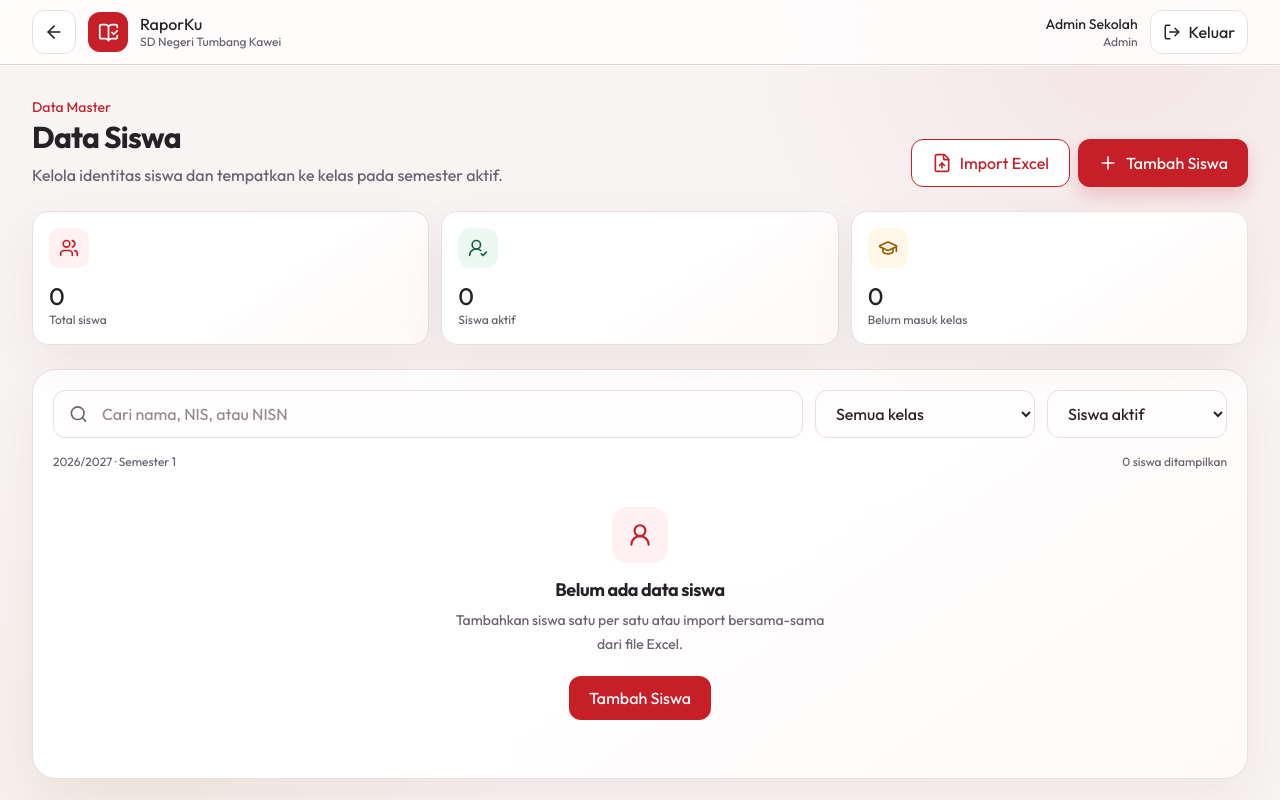
it: StudentPage › menambah siswa dan menempatkannya ke kelas aktif
The width and height of the screenshot is (1280, 800).
Click the 1st button "Tambah Siswa".
click(1163, 163)  # box [1078, 139, 1248, 187]
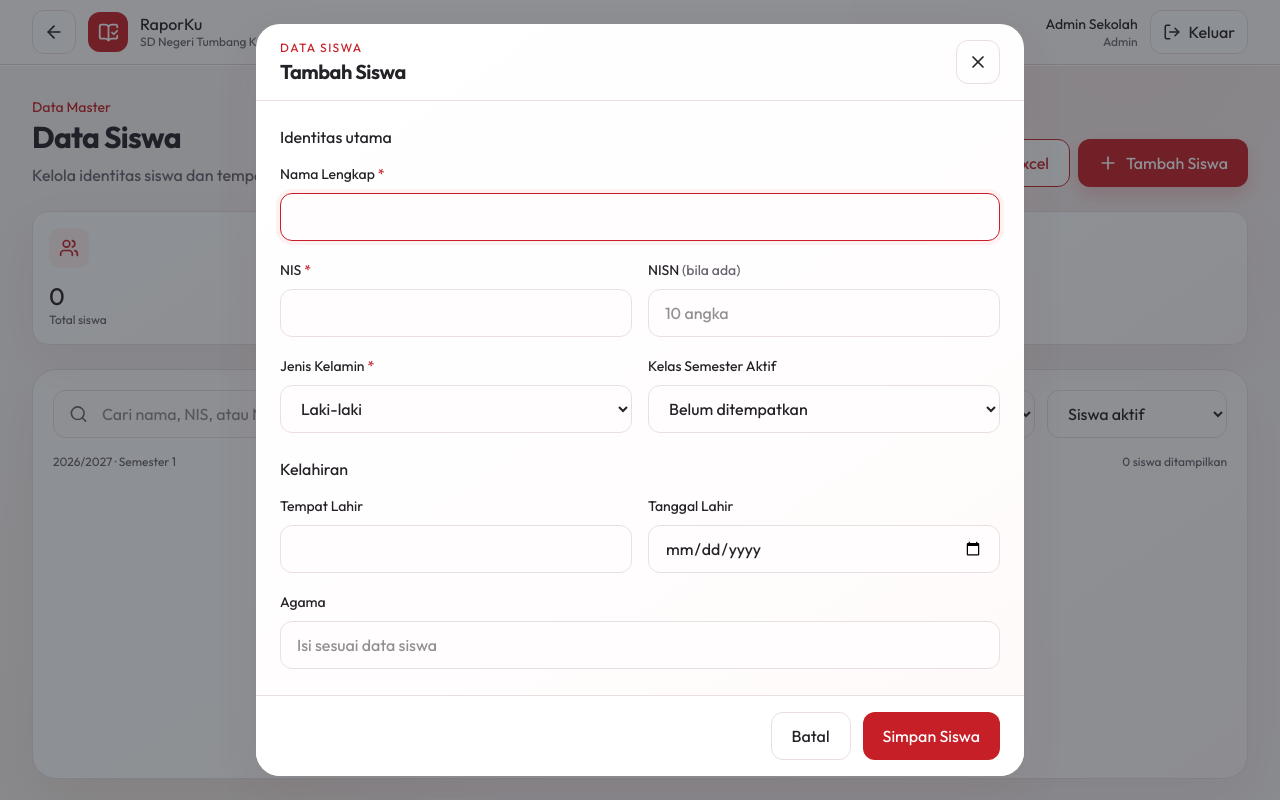
Type "Budi Santoso" into the field labelled "Nama Lengkap *".
click(640, 217); type("Budi Santoso")  # box [280, 193, 1000, 241]
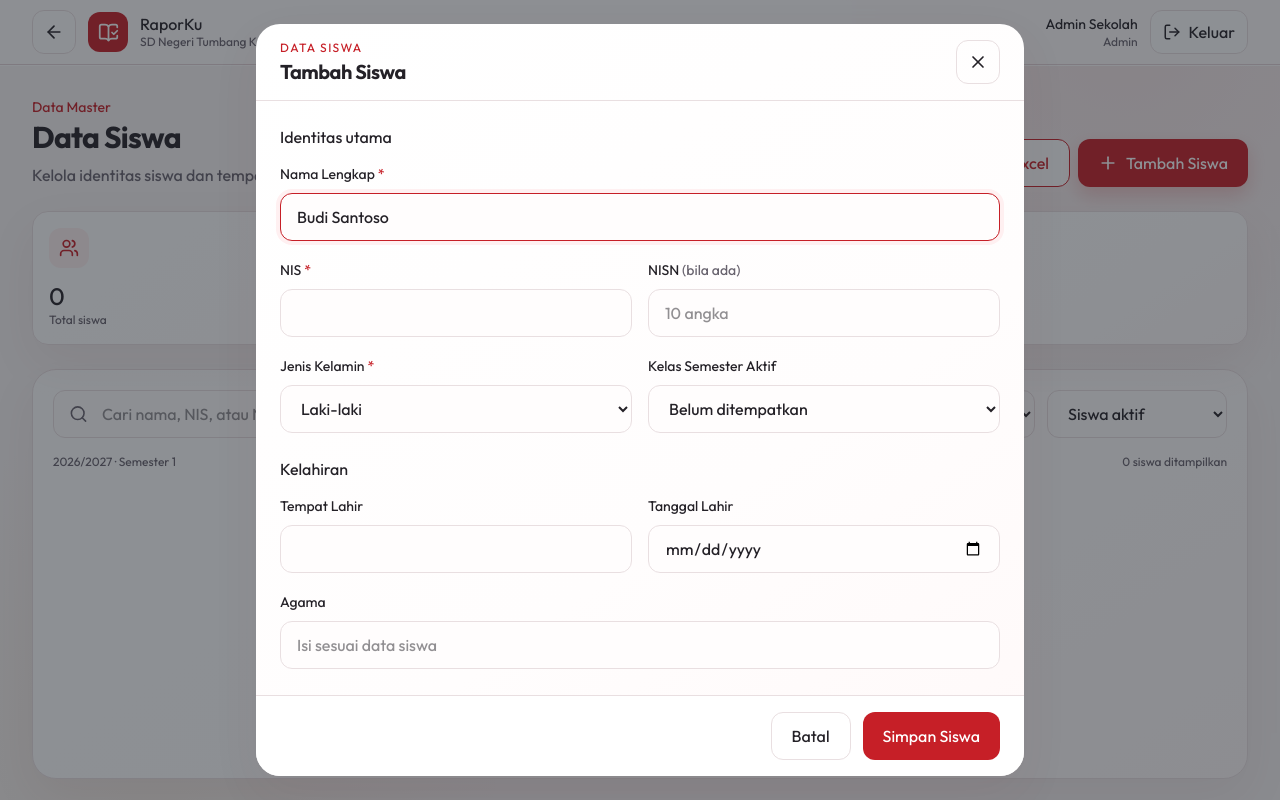
Type "001" into the field labelled "NIS *".
click(456, 313); type("001")  # box [280, 289, 632, 337]
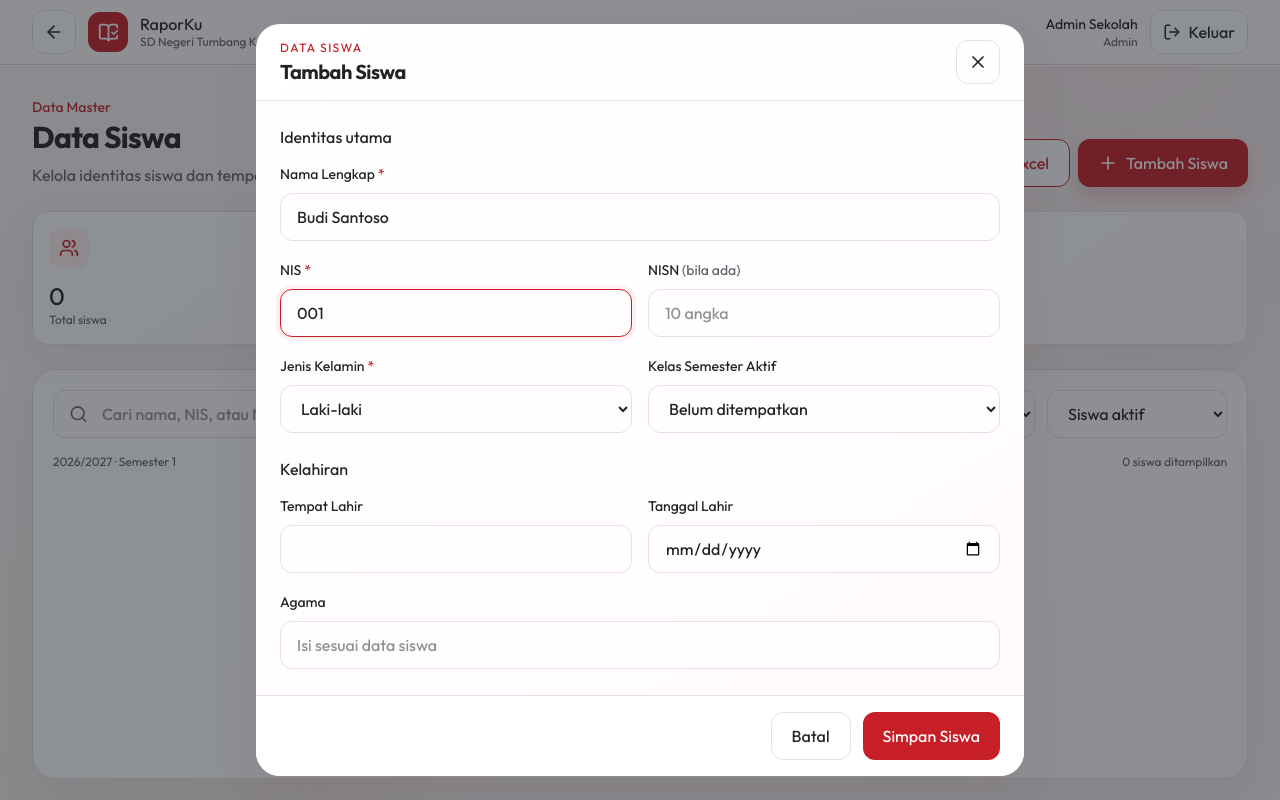
Select "4A · Kelas 4" in the dropdown labelled "Kelas Semester Aktif" at (824, 409), box [648, 385, 1000, 433]
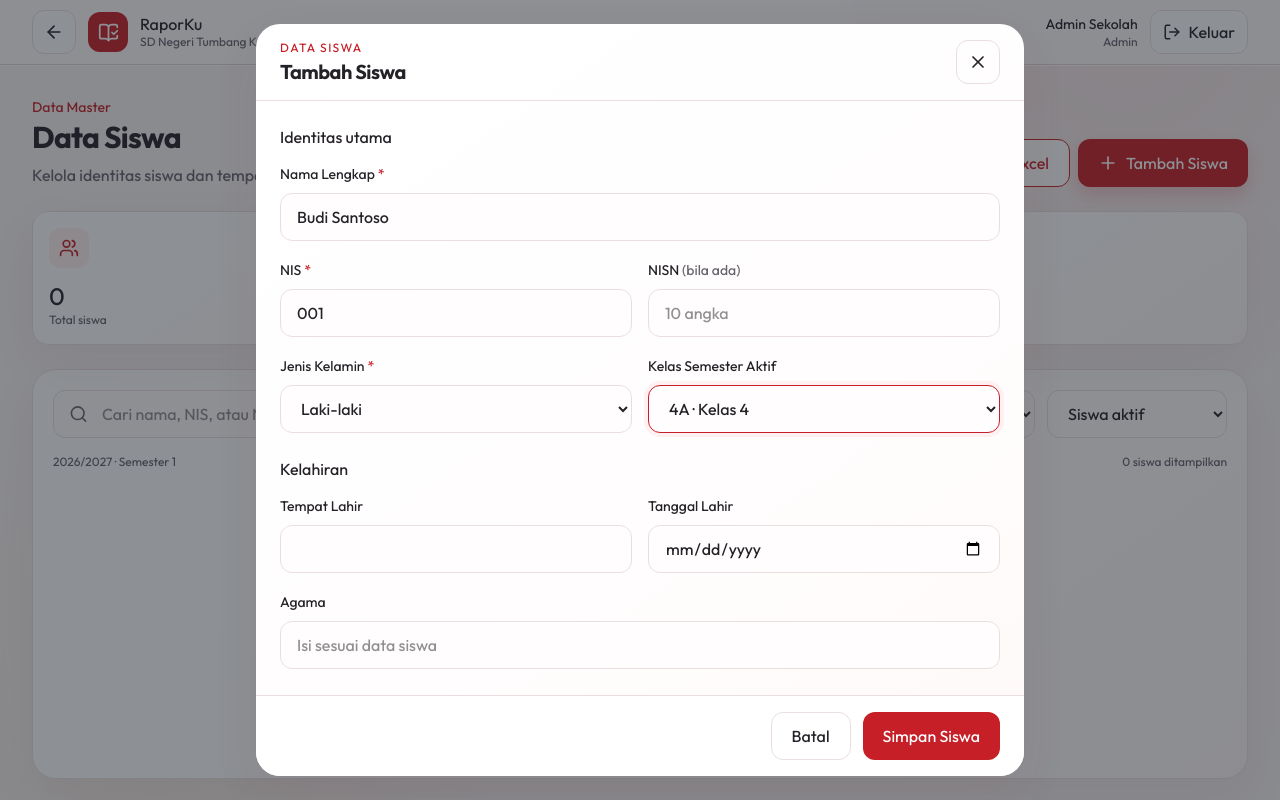
Click the button "Simpan Siswa".
click(931, 736)  # box [862, 712, 1000, 760]
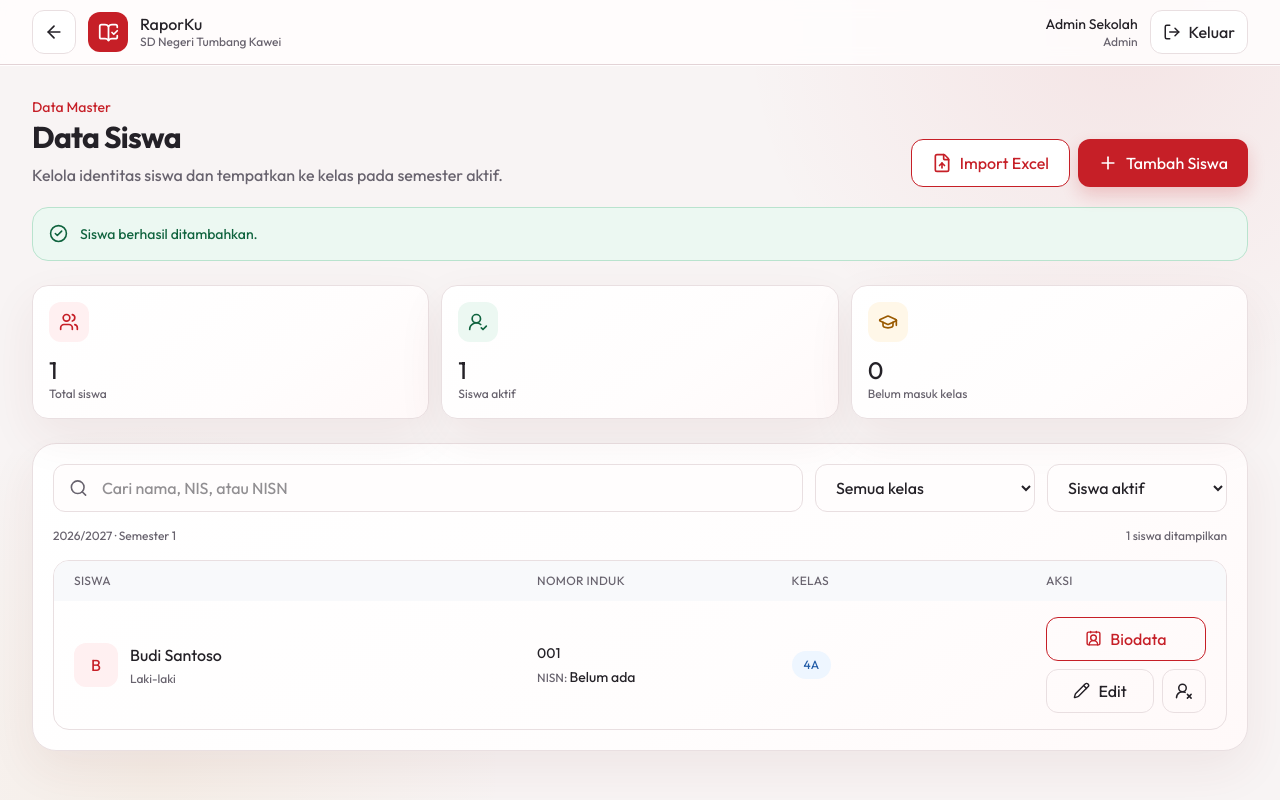
Result: the text "Siswa berhasil ditambahkan." is shown at [32, 207, 1248, 261]
